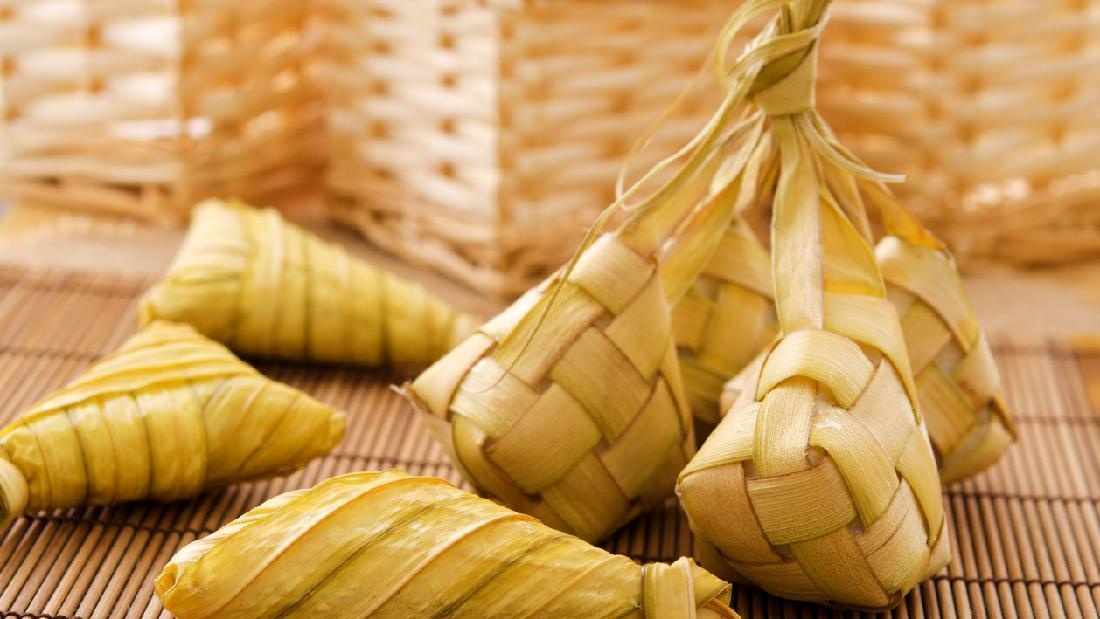ketupat: (673, 276, 953, 611), (400, 232, 699, 545)
